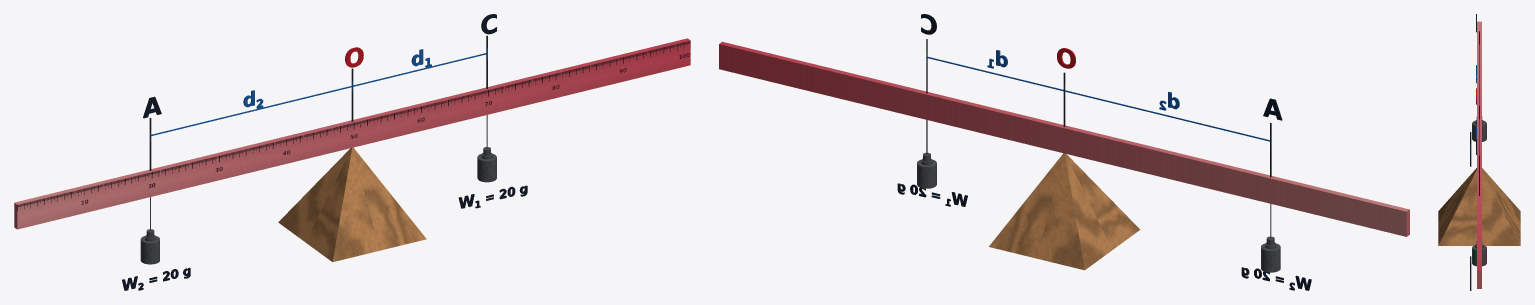
Rendered from PrincipleOfMoments.fbx.
3 views of the same model, side by side, from view 1: azimuth 30°, elevation 25°; view 2: azimuth 150°, elevation 25°; view 3: azimuth 270°, elevation 25° (orthographic). The views are drawn at different scales.
Parts seen in each view (by area): view 1: MeterRod, Wedge, W1_Mass, W2_Mass, W1_Text, W2_Text, D2_Bar; view 2: MeterRod, Wedge, W2_Mass, W1_Mass, W1_Text, D2_Bar, W2_Text; view 3: Wedge, MeterRod, W1_Mass, W2_Mass, W1_Text, W2_Text.
Boxes of the visible parts, left/top/right/bottom form: MeterRod: left=14, top=38, right=690, bottom=229; Wedge: left=278, top=147, right=426, bottom=262; W1_Mass: left=477, top=115, right=496, bottom=182; W2_Mass: left=140, top=197, right=159, bottom=264; W1_Text: left=458, top=185, right=527, bottom=208; W2_Text: left=122, top=267, right=190, bottom=290; D2_Bar: left=151, top=86, right=352, bottom=135; MeterRod: left=719, top=41, right=1409, bottom=236; Wedge: left=989, top=153, right=1140, bottom=270; W2_Mass: left=1261, top=204, right=1280, bottom=272; W1_Mass: left=917, top=120, right=936, bottom=188; W1_Text: left=897, top=183, right=967, bottom=206; D2_Bar: left=1064, top=90, right=1270, bottom=141; W2_Text: left=1241, top=267, right=1311, bottom=290; Wedge: left=1438, top=168, right=1520, bottom=245; MeterRod: left=1477, top=21, right=1481, bottom=288; W1_Mass: left=1472, top=241, right=1486, bottom=266; W2_Mass: left=1472, top=116, right=1486, bottom=141; W1_Text: left=1470, top=256, right=1471, bottom=290; W2_Text: left=1470, top=132, right=1471, bottom=166.
Bounding box in the file's own units: 1 × 0.264 × 0.14.
